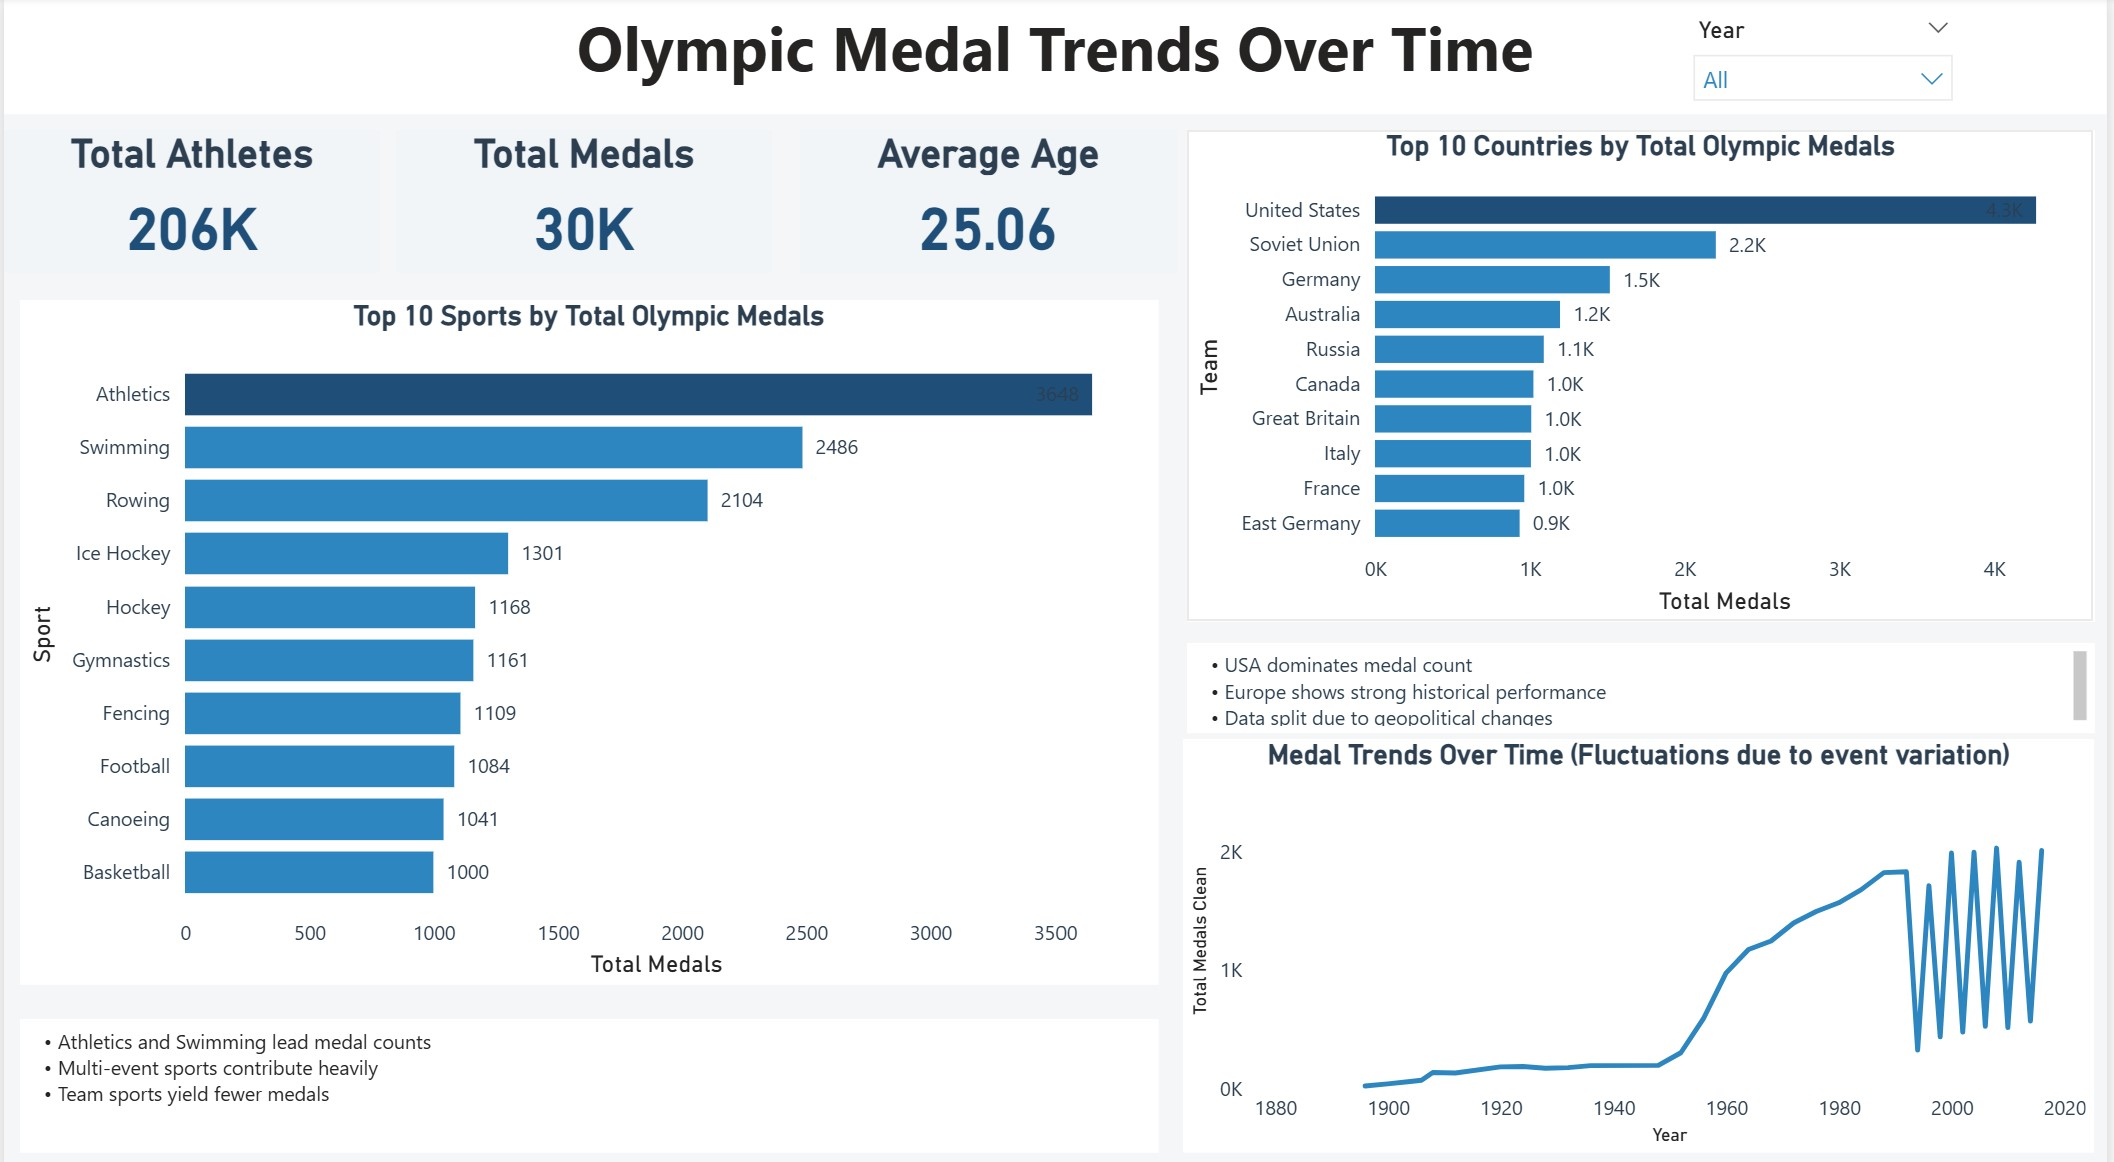

This screenshot's page, from the dashboard's own definition file:
{"tool":"powerbi","page":{"name":"Page 1","canvas":[1280,720],"ordinal":0},"visuals":[{"type":"card","title":"Total Athletes","fields":{"Values":["athlete_events.Total Athletes"]},"box":[0,81.4,229.1,87.1],"z":0},{"type":"lineChart","title":"Medal Trends Over Time (Fluctuations due to event variation)","fields":{"Category":["Yearly_Medals.Year"],"Y":["Yearly_Medals.Total Medals Clean"]},"box":[717.6,452.5,554.8,251.8],"z":3000},{"type":"barChart","title":"Top 10 Countries by Total Olympic Medals","fields":{"Category":["athlete_events.Team"],"Y":["athlete_events.Total Medals"]},"box":[719.5,81.4,552.9,299.2],"z":4000},{"type":"textbox","box":[719.5,393.8,552.9,54.9],"z":5000},{"type":"textbox","box":[0,0,1280,72],"z":5001},{"type":"barChart","title":"Top 10 Sports by Total Olympic Medals ","fields":{"Category":["athlete_events.Sport"],"Y":["athlete_events.Total Medals"]},"box":[9.5,185.6,693,416.6],"z":5002},{"type":"textbox","box":[9.5,623,693,81.4],"z":5003},{"type":"slicer","fields":{"Values":["athlete_events.Year"]},"box":[1018.7,7.6,178,56.8],"z":5004},{"type":"card","title":"Average Age","fields":{"Values":["athlete_events.Avg Age"]},"box":[484.7,81.4,229.1,87.1],"z":5005},{"type":"card","title":"Total Medals","fields":{"Values":["athlete_events.Total Medals"]},"box":[238.6,81.4,229.1,87.1],"z":5006}]}

Visuals, with their boxes in screenshot pixels (x1, y1, x2, y2), scaled from the page's 1280x720 canvas onto the 2114x1162 screenshot:
"Total Athletes" card: <bbox>0, 131, 378, 272</bbox>
"Medal Trends Over Time (Fluctuations due to event variation)" lineChart: <bbox>1185, 730, 2101, 1137</bbox>
"Top 10 Countries by Total Olympic Medals" barChart: <bbox>1188, 131, 2101, 614</bbox>
textbox: <bbox>1188, 636, 2101, 724</bbox>
textbox: <bbox>0, 0, 2113, 116</bbox>
"Top 10 Sports by Total Olympic Medals " barChart: <bbox>16, 300, 1160, 972</bbox>
textbox: <bbox>16, 1005, 1160, 1137</bbox>
slicer - athlete_events.Year: <bbox>1682, 12, 1976, 104</bbox>
"Average Age" card: <bbox>801, 131, 1179, 272</bbox>
"Total Medals" card: <bbox>394, 131, 772, 272</bbox>
